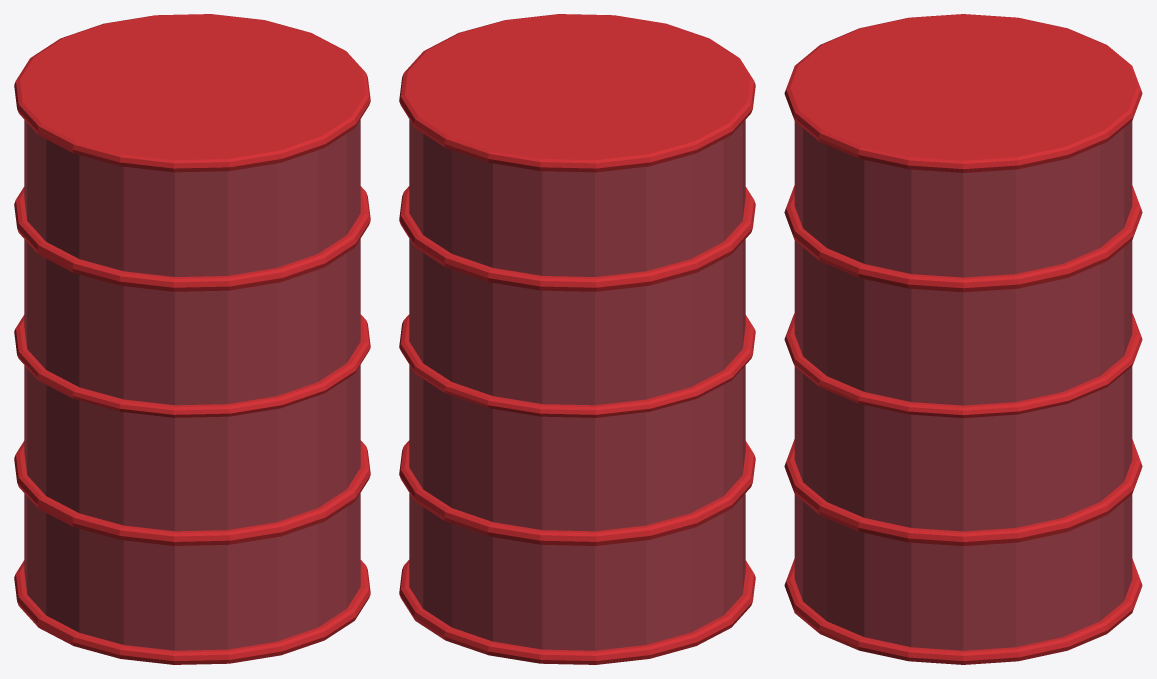
Rendered from Explosive_barrel.fbx.
3 renders of one model, left to right at view 1: azimuth 30°, elevation 25°; view 2: azimuth 150°, elevation 25°; view 3: azimuth 270°, elevation 25°, orthographic.
Parts seen in each view (by area): view 1: Red Barrel; view 2: Red Barrel; view 3: Red Barrel.
Boxes of the visible parts, x1,y1,x2,y2 form: Red Barrel: (14, 14, 370, 664); Red Barrel: (399, 14, 755, 664); Red Barrel: (784, 14, 1142, 664).
Size of the model in its own units: 160 by 248 by 160.
